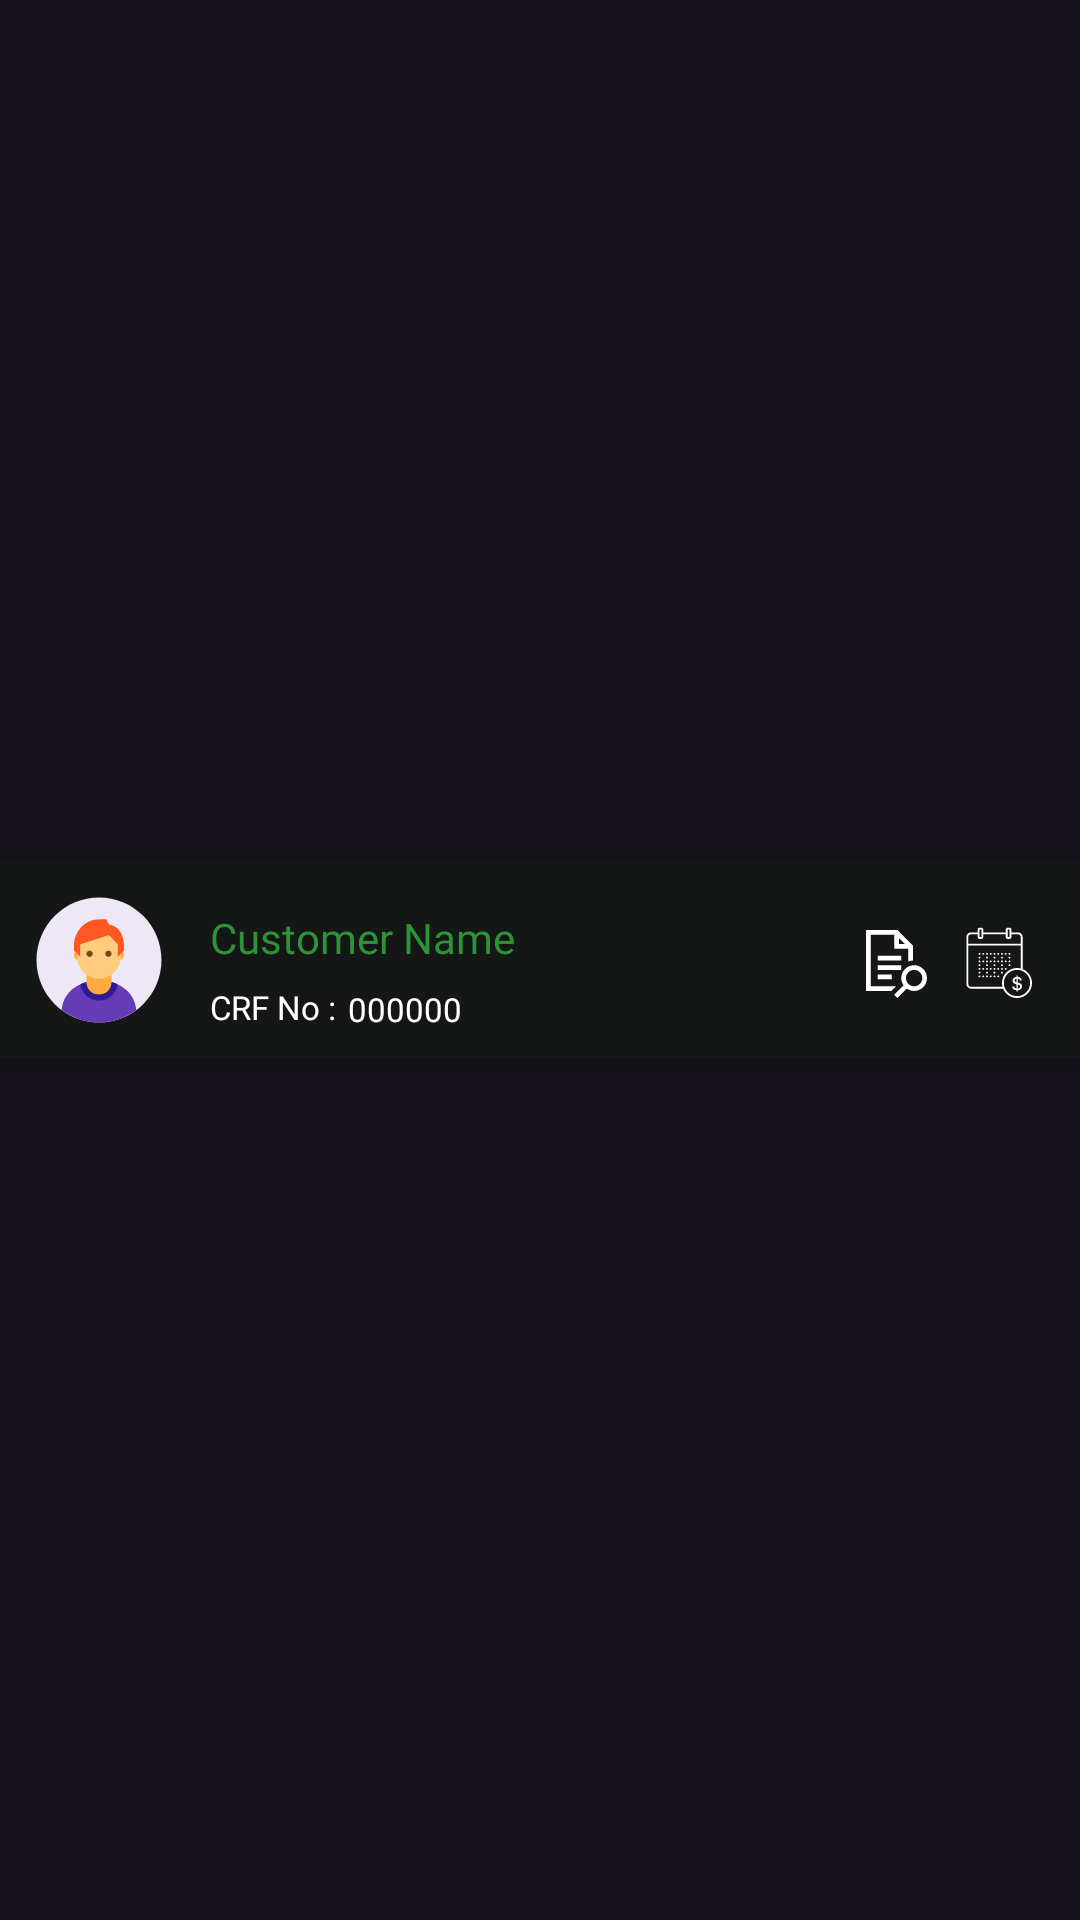

Locate icon controls on the screen. Image size 1080px x 1920px, boxes as (x1, y1, x2, y2).
duecheckericon: (966, 927, 1032, 998)
view: (866, 930, 927, 998)
